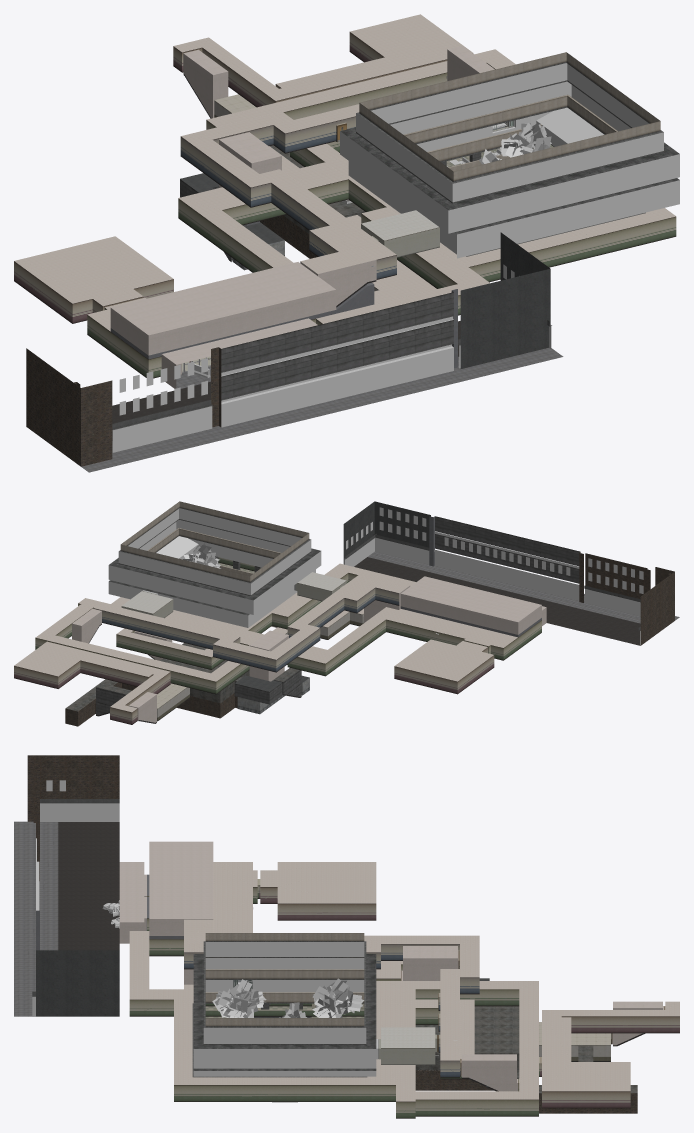
Rendered from Hospital_World.obj.
3 views of the same model, one above another, from view 1: azimuth 30°, elevation 25°; view 2: azimuth 150°, elevation 25°; view 3: azimuth 270°, elevation 25° (orthographic). The views are drawn at different scales.
Visible parts, largest first — view 1: B1-2, 1F 2F, Tree_B,Tree_B_01,Tree_M; view 2: B1-2, 1F 2F, Tree_D; view 3: 1F 2F, B1-2, Tree_B,Tree_B_01,Tree_M, Tree_D.
Boxes of the visible parts, bbox=[...] form: B1-2: bbox=[26, 52, 679, 472]; 1F 2F: bbox=[14, 14, 676, 388]; Tree_B,Tree_B_01,Tree_M: bbox=[479, 116, 551, 164]; B1-2: bbox=[65, 501, 679, 726]; 1F 2F: bbox=[14, 554, 546, 724]; Tree_D: bbox=[182, 543, 220, 568]; 1F 2F: bbox=[119, 841, 679, 1118]; B1-2: bbox=[14, 755, 637, 1113]; Tree_B,Tree_B_01,Tree_M: bbox=[279, 978, 364, 1017]; Tree_D: bbox=[212, 979, 266, 1017].
Bounding box in the file's own units: 111 × 22.03 × 105.
